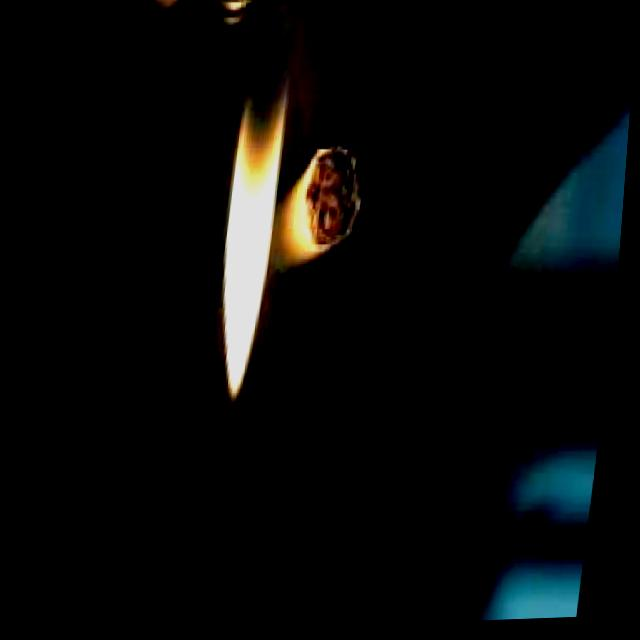no_helmet: (211, 0, 301, 399)
